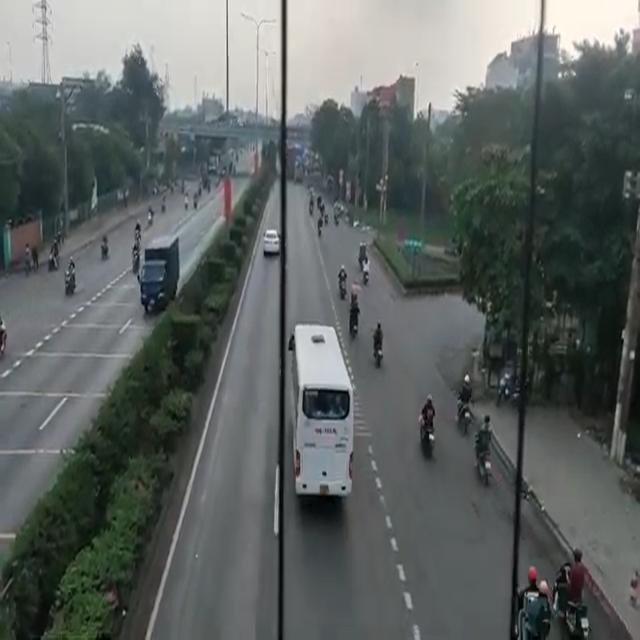bus: (289, 313, 350, 503)
car: (262, 224, 282, 258)
motor: (554, 557, 588, 640), (516, 579, 544, 640), (474, 434, 495, 486), (366, 320, 386, 368), (418, 410, 434, 460), (456, 382, 470, 436), (345, 295, 361, 335), (62, 256, 76, 296), (45, 242, 62, 272), (100, 224, 112, 265)
truck: (142, 240, 176, 311)
